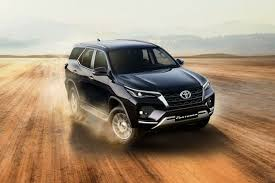Toyota: (65, 39, 213, 128)
